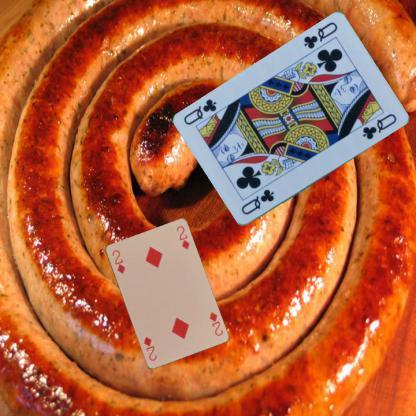2d: (206, 309, 224, 337), (109, 247, 126, 275)
Qc: (300, 20, 338, 51), (238, 186, 276, 216)
